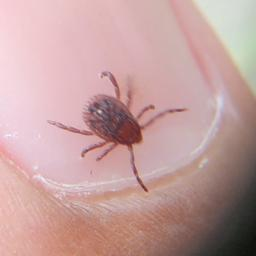Rhipicephalus sanguineus: (95, 46, 222, 146)
